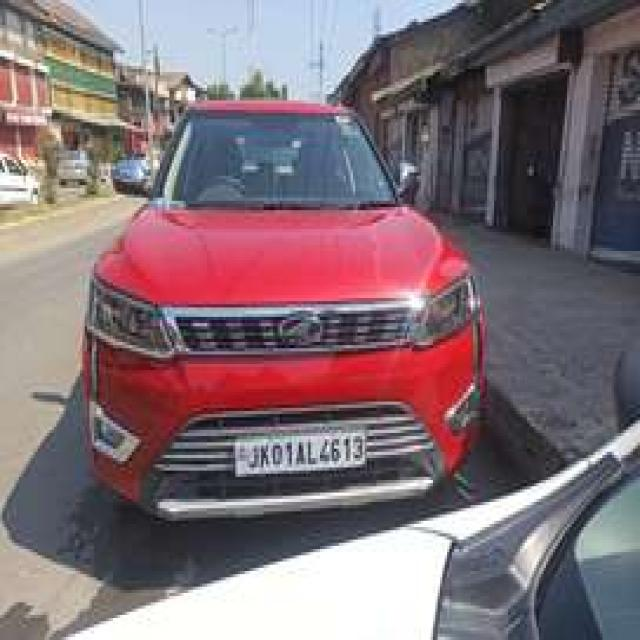Plate: (232, 422, 364, 469)
